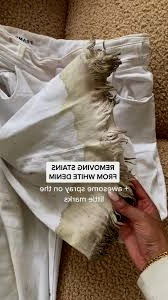earth: (64, 70, 117, 124), (65, 210, 107, 244), (83, 133, 120, 159)
